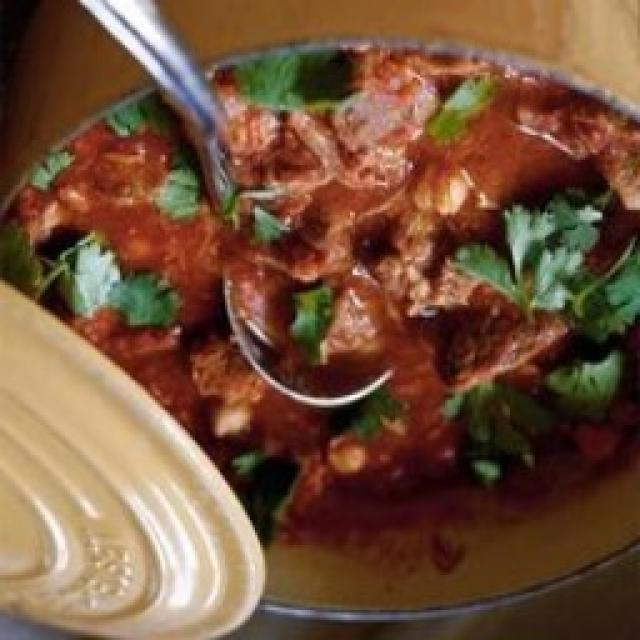Kamouniya: (0, 47, 640, 575)
